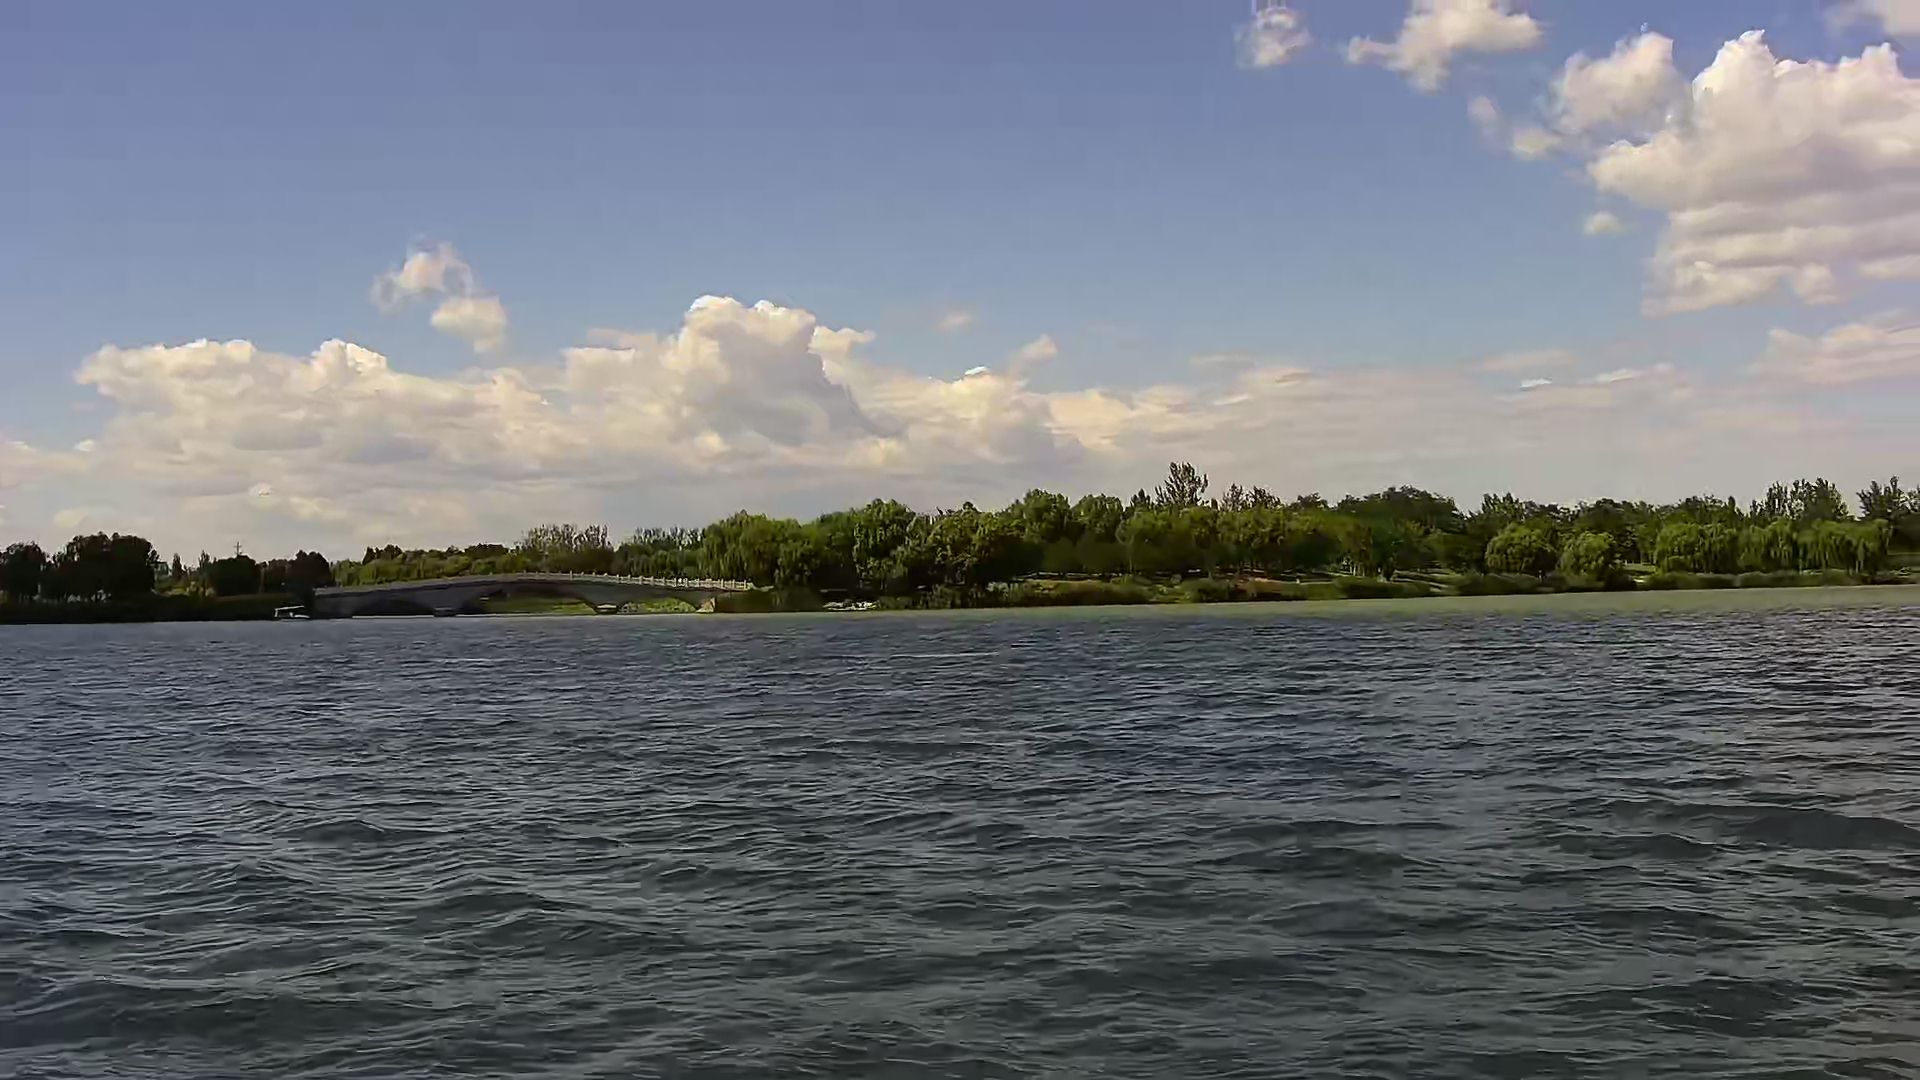bridge: (311, 567, 757, 617)
